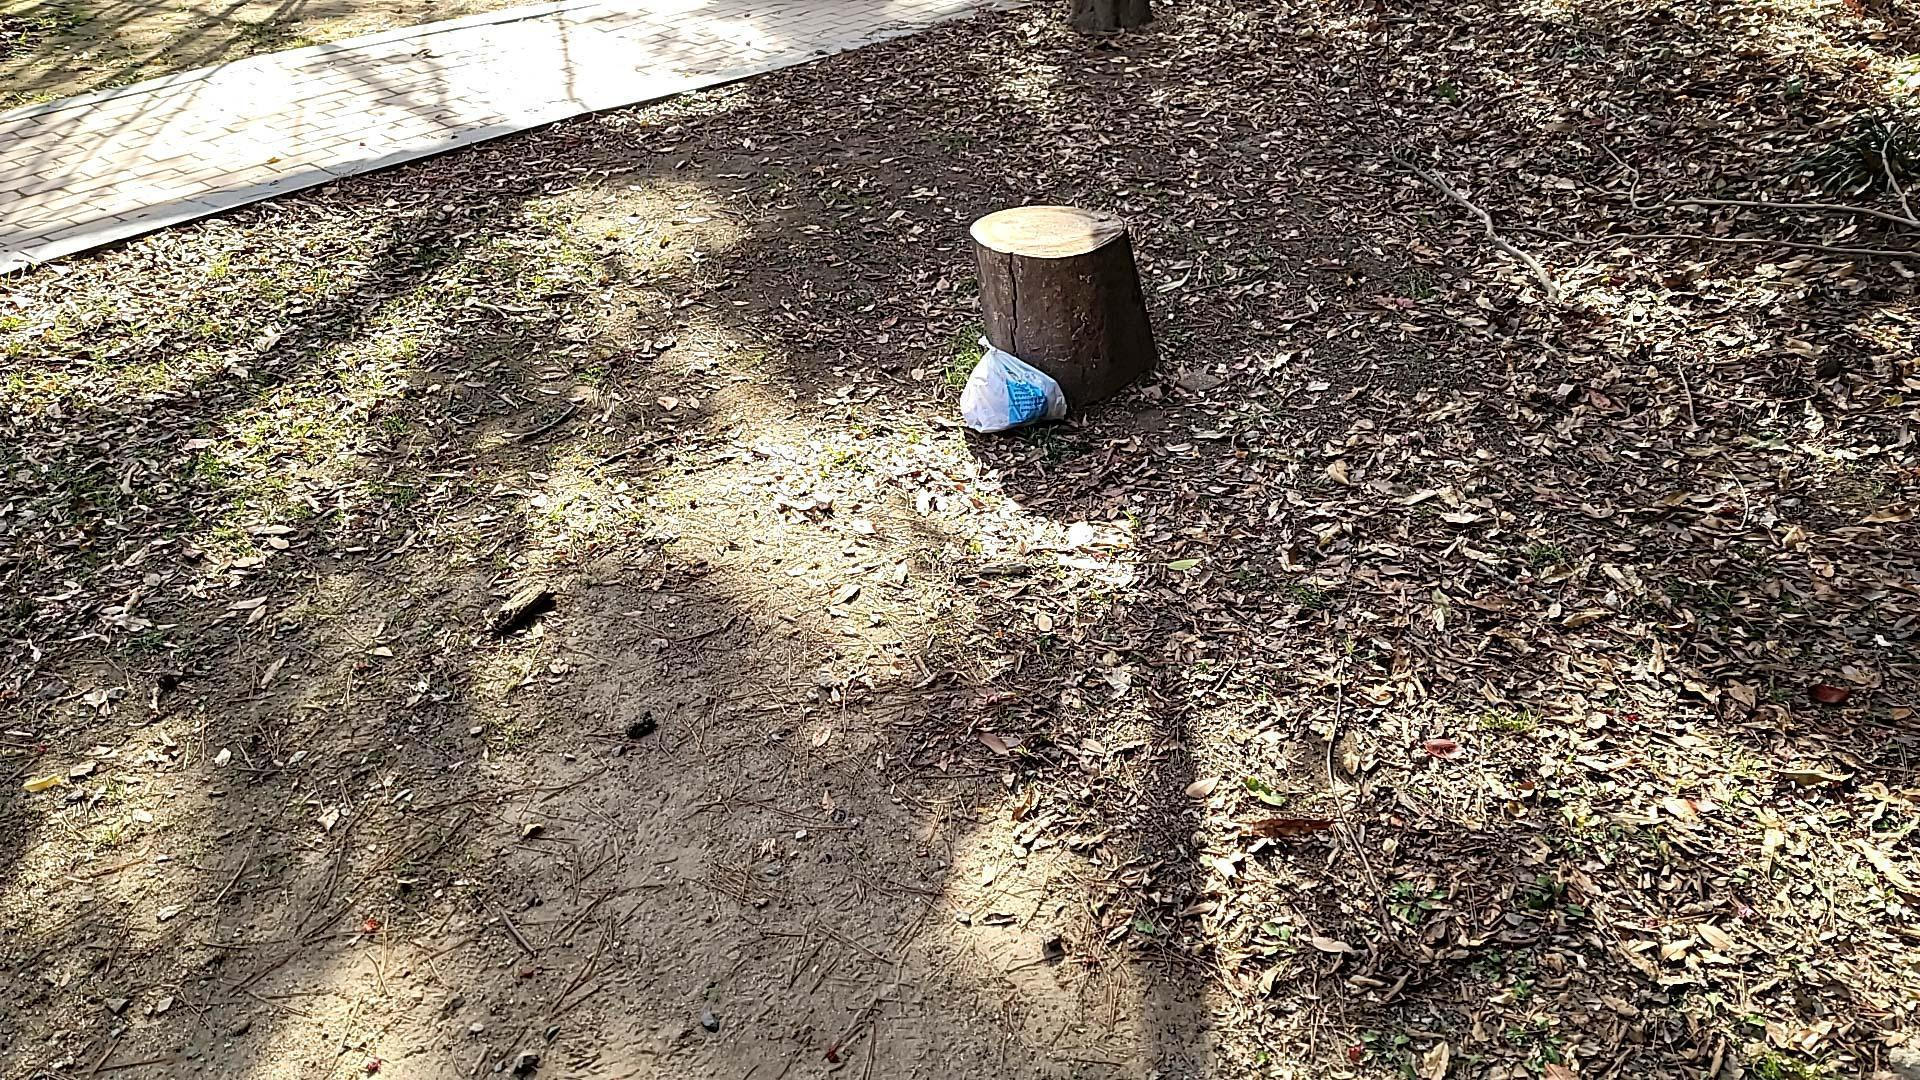white_bag: (952, 334, 1071, 436)
